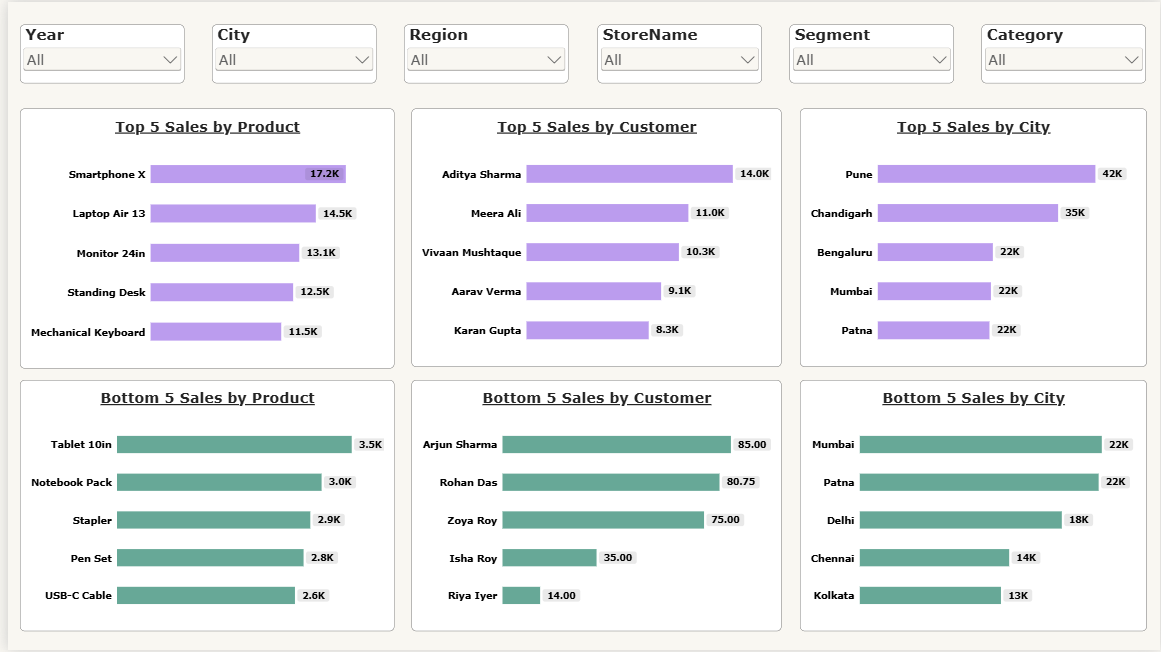

The dashboard page shown, as its layout file describes it:
{"tool":"powerbi","page":{"name":"Top 5 Analysis","canvas":[1920,1080],"ordinal":4},"visuals":[{"type":"slicer","fields":{"Values":["Date Table.Year"]},"box":[19.6,36.7,274.1,98.1],"z":0},{"type":"slicer","fields":{"Values":["Stores.City"]},"box":[340.3,36.7,274.2,97.9],"z":1000},{"type":"slicer","fields":{"Values":["Stores.Region"]},"box":[660.9,36.7,274.2,97.9],"z":2000},{"type":"slicer","fields":{"Values":["Stores.StoreName"]},"box":[981.6,36.7,274.2,97.9],"z":3000},{"type":"slicer","fields":{"Values":["Customers.Segment"]},"box":[1302.3,36.7,274.2,97.9],"z":4000},{"type":"slicer","fields":{"Values":["Products.Category"]},"box":[1623,36.7,274.2,97.9],"z":5000},{"type":"barChart","title":"Top 5 Sales by Product","fields":{"Category":["Products.ProductName"],"Y":["Measure Overview.Total Sales"]},"box":[19.6,176.3,624.2,433.3],"z":6000},{"type":"barChart","title":"Bottom 5 Sales by Product","fields":{"Category":["Products.ProductName"],"Y":["Measure Overview.Total Sales"]},"box":[19.6,629.1,624.2,418.6],"z":7000},{"type":"barChart","title":"Top 5 Sales by Customer","fields":{"Category":["Customers.CustomerName"],"Y":["Measure Overview.Total Sales"]},"box":[673.2,178.7,616.9,430.8],"z":8000},{"type":"barChart","title":"Bottom 5 Sales by Customer","fields":{"Category":["Customers.CustomerName"],"Y":["Measure Overview.Total Sales"]},"box":[673.2,629.1,616.9,418.6],"z":9000},{"type":"barChart","title":"Bottom 5 Sales by City","fields":{"Category":["Customers.City"],"Y":["Measure Overview.Total Sales"]},"box":[1319.4,629.1,577.7,418.6],"z":9001},{"type":"barChart","title":"Top 5 Sales by City","fields":{"Category":["Customers.City"],"Y":["Measure Overview.Total Sales"]},"box":[1319.4,178.7,577.7,430.8],"z":9002}]}

Visuals, with their boxes in screenshot pixels (x1, y1, x2, y2), scaled from the page's 1920x1080 canvas onto the 1161x652 screenshot:
slicer - Date Table.Year: (left=12, top=22, right=178, bottom=81)
slicer - Stores.City: (left=206, top=22, right=372, bottom=81)
slicer - Stores.Region: (left=400, top=22, right=565, bottom=81)
slicer - Stores.StoreName: (left=594, top=22, right=759, bottom=81)
slicer - Customers.Segment: (left=787, top=22, right=953, bottom=81)
slicer - Products.Category: (left=981, top=22, right=1147, bottom=81)
"Top 5 Sales by Product" barChart: (left=12, top=106, right=389, bottom=368)
"Bottom 5 Sales by Product" barChart: (left=12, top=380, right=389, bottom=633)
"Top 5 Sales by Customer" barChart: (left=407, top=108, right=780, bottom=368)
"Bottom 5 Sales by Customer" barChart: (left=407, top=380, right=780, bottom=633)
"Bottom 5 Sales by City" barChart: (left=798, top=380, right=1147, bottom=633)
"Top 5 Sales by City" barChart: (left=798, top=108, right=1147, bottom=368)
